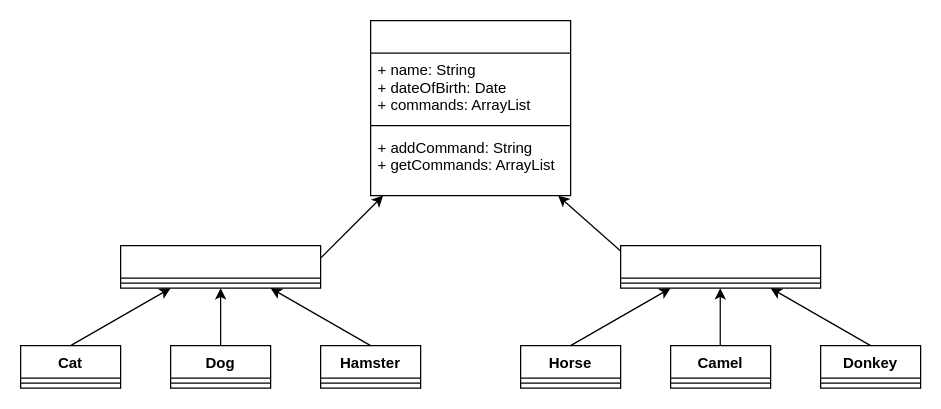
Some shapes in this 941 by 409 pixel diagram are drawn without their labels. Here are the shapes that lost their labels. From the top down, the box of each, then its label:
(369, 19, 571, 196): Animal
(119, 244, 321, 288): Pets
(619, 244, 821, 288): PackAnimals
